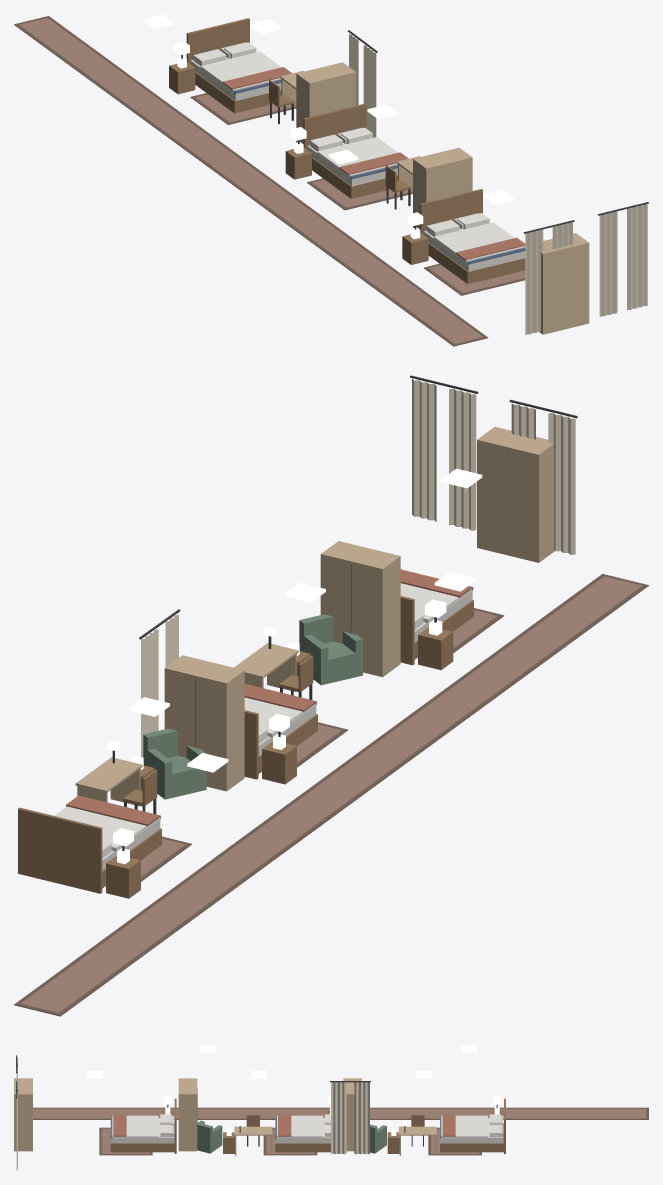
The model's file is fine-s3.glb.
The picture shows the model from 3 angles, top to bottom: view 1: azimuth 30°, elevation 25°; view 2: azimuth 150°, elevation 25°; view 3: azimuth 270°, elevation 25°; orthographic projection. The views are drawn at different scales.
Parts seen in each view (by area): view 1: soft-s3, dresser.008, bed-frame.008, bed-frame.007, bed-frame.006, dresser.006, dresser.007, nightstand.008, nightstand.006, nightstand.007, cafe-chair.005, cafe-chair.004; view 2: soft-s3, dresser.008, dresser.007, dresser.006, bed-frame.006, lounge-chair.005, lounge-chair.004, writing-desk.004, writing-desk.005, bed-frame.007, bed-frame.008, nightstand.008 (+2 smaller); view 3: soft-s3, dresser.007, dresser.008, bed-frame.008, bed-frame.006, bed-frame.007, lounge-chair.005, dresser.006, writing-desk.005, writing-desk.004, lounge-chair.004, side-table.004 (+2 smaller).
Part boxes in pixels (<box>): soft-s3: <box>14,16,648,346</box>; dresser.008: <box>539,233,589,334</box>; bed-frame.008: <box>420,189,525,283</box>; bed-frame.007: <box>303,103,397,198</box>; bed-frame.006: <box>186,18,281,113</box>; dresser.006: <box>296,62,355,143</box>; dresser.007: <box>413,147,472,229</box>; nightstand.008: <box>402,227,428,264</box>; nightstand.006: <box>169,56,195,94</box>; nightstand.007: <box>285,142,311,179</box>; cafe-chair.005: <box>385,165,411,209</box>; cafe-chair.004: <box>269,80,294,124</box>; soft-s3: <box>14,375,648,1016</box>; dresser.008: <box>477,426,554,562</box>; dresser.007: <box>320,541,400,677</box>; dresser.006: <box>164,655,244,791</box>; bed-frame.006: <box>18,807,161,893</box>; lounge-chair.005: <box>299,614,362,685</box>; lounge-chair.004: <box>143,728,206,799</box>; writing-desk.004: <box>75,740,142,806</box>; writing-desk.005: <box>234,626,298,691</box>; bed-frame.007: <box>244,701,317,779</box>; bed-frame.008: <box>400,587,473,665</box>; nightstand.008: <box>418,619,453,669</box>; soft-s3: <box>16,1055,648,1170</box>; dresser.007: <box>178,1078,197,1151</box>; dresser.008: <box>14,1078,32,1151</box>; bed-frame.008: <box>110,1098,176,1153</box>; bed-frame.006: <box>440,1098,505,1153</box>; bed-frame.007: <box>275,1116,330,1152</box>; lounge-chair.005: <box>197,1120,222,1153</box>; dresser.006: <box>343,1078,361,1151</box>; writing-desk.005: <box>234,1121,272,1155</box>; writing-desk.004: <box>399,1121,436,1155</box>; lounge-chair.004: <box>370,1124,386,1153</box>; side-table.004: <box>387,1128,399,1153</box>.
Bounding box in the file's own units: 4.83 × 2.61 × 20.19.
